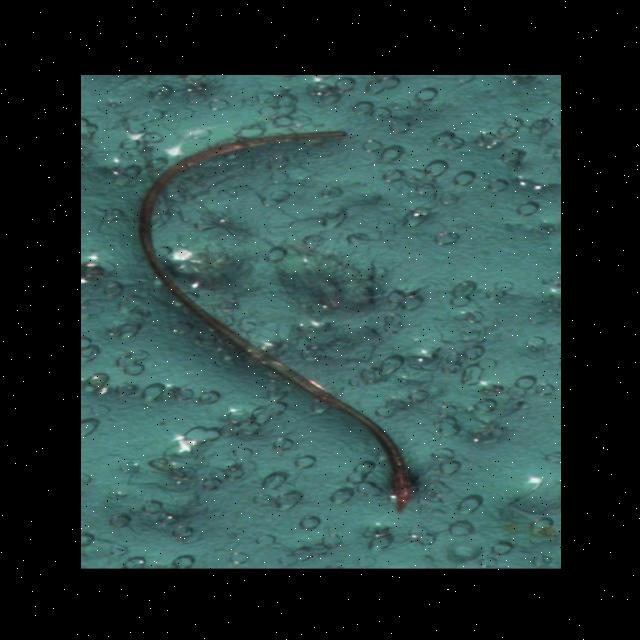Fibre: (136, 129, 420, 513)
